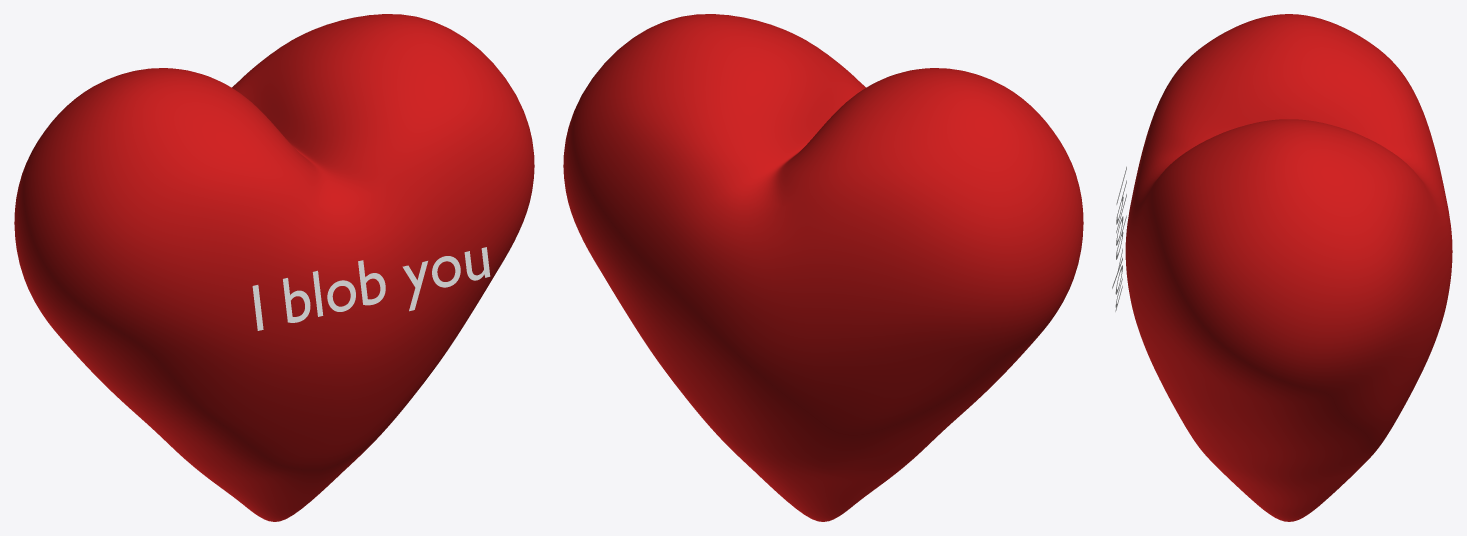
The model's file is heart.glb.
3 renders of one model, left to right at view 1: azimuth 30°, elevation 25°; view 2: azimuth 150°, elevation 25°; view 3: azimuth 270°, elevation 25°, orthographic. The views are drawn at different scales.
Visible parts, largest first — view 1: Cube.001, Text; view 2: Cube.001; view 3: Cube.001, Text.
Boxes of the visible parts, <box> form: Cube.001: <box>14,14,534,521</box>; Text: <box>252,247,490,330</box>; Cube.001: <box>563,14,1083,521</box>; Cube.001: <box>1125,14,1452,521</box>; Text: <box>1112,166,1126,311</box>.
Size of the model in its own units: 8.15 by 7.55 by 5.27.
